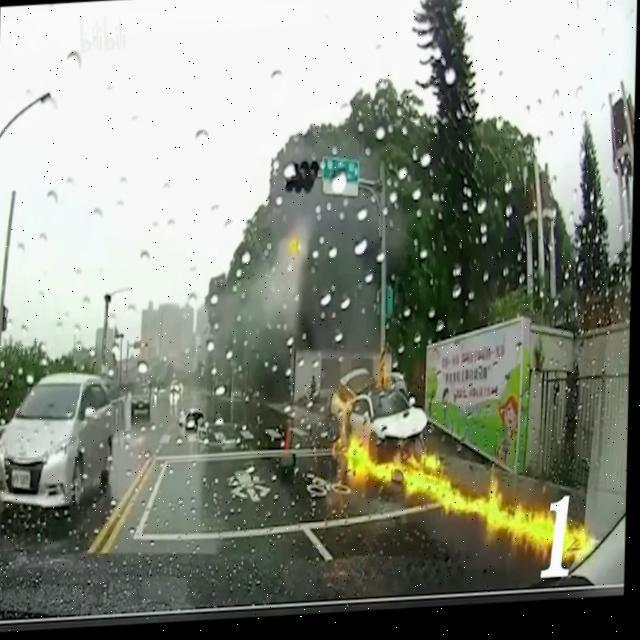multiple_accident: (297, 366, 450, 470)
normal: (24, 363, 133, 540)
